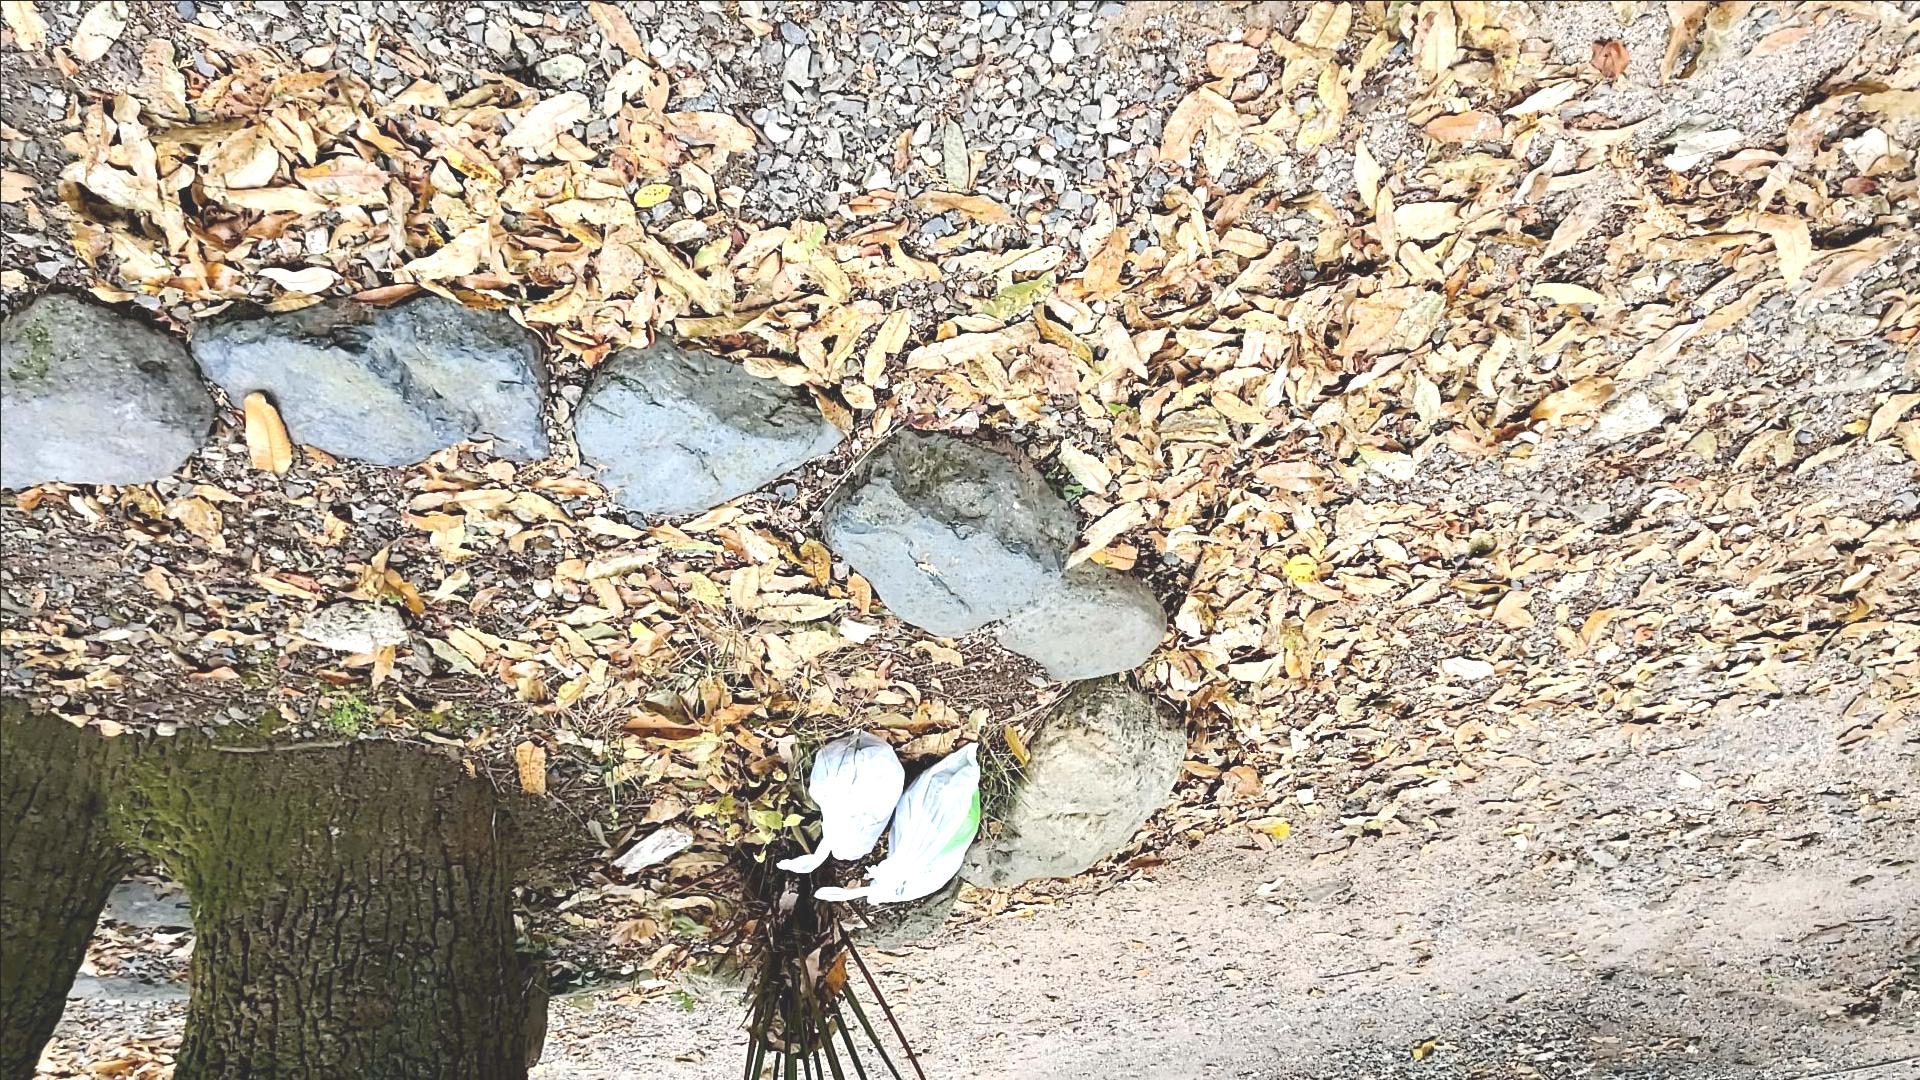white_bag: (822, 717, 992, 928), (774, 724, 909, 889)
